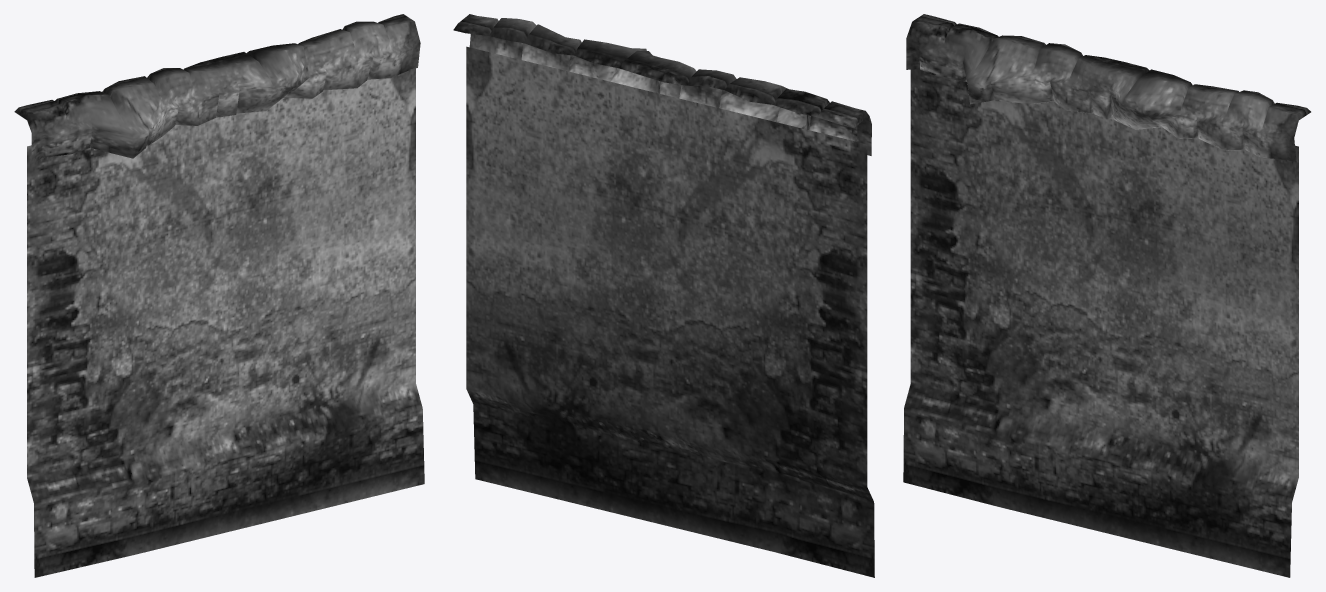
File: StreetDeko_HouseWall_B.FBX
The picture shows the model from 3 angles, left to right: view 1: azimuth 30°, elevation 25°; view 2: azimuth 150°, elevation 25°; view 3: azimuth 330°, elevation 25°; orthographic projection. The views are drawn at different scales.
Parts seen in each view (by area): view 1: Street_HouseWall_B; view 2: Street_HouseWall_B; view 3: Street_HouseWall_B.
Boxes of the visible parts, bbox=[...] form: Street_HouseWall_B: bbox=[14, 14, 424, 577]; Street_HouseWall_B: bbox=[453, 14, 874, 577]; Street_HouseWall_B: bbox=[903, 14, 1310, 577].
Size of the model in its own units: 400 by 456 by 67.69.
